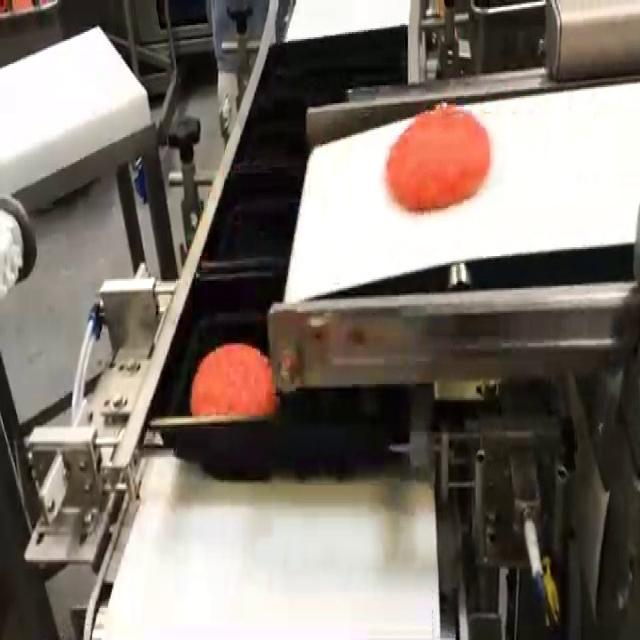hamburguer: (386, 105, 490, 212)
